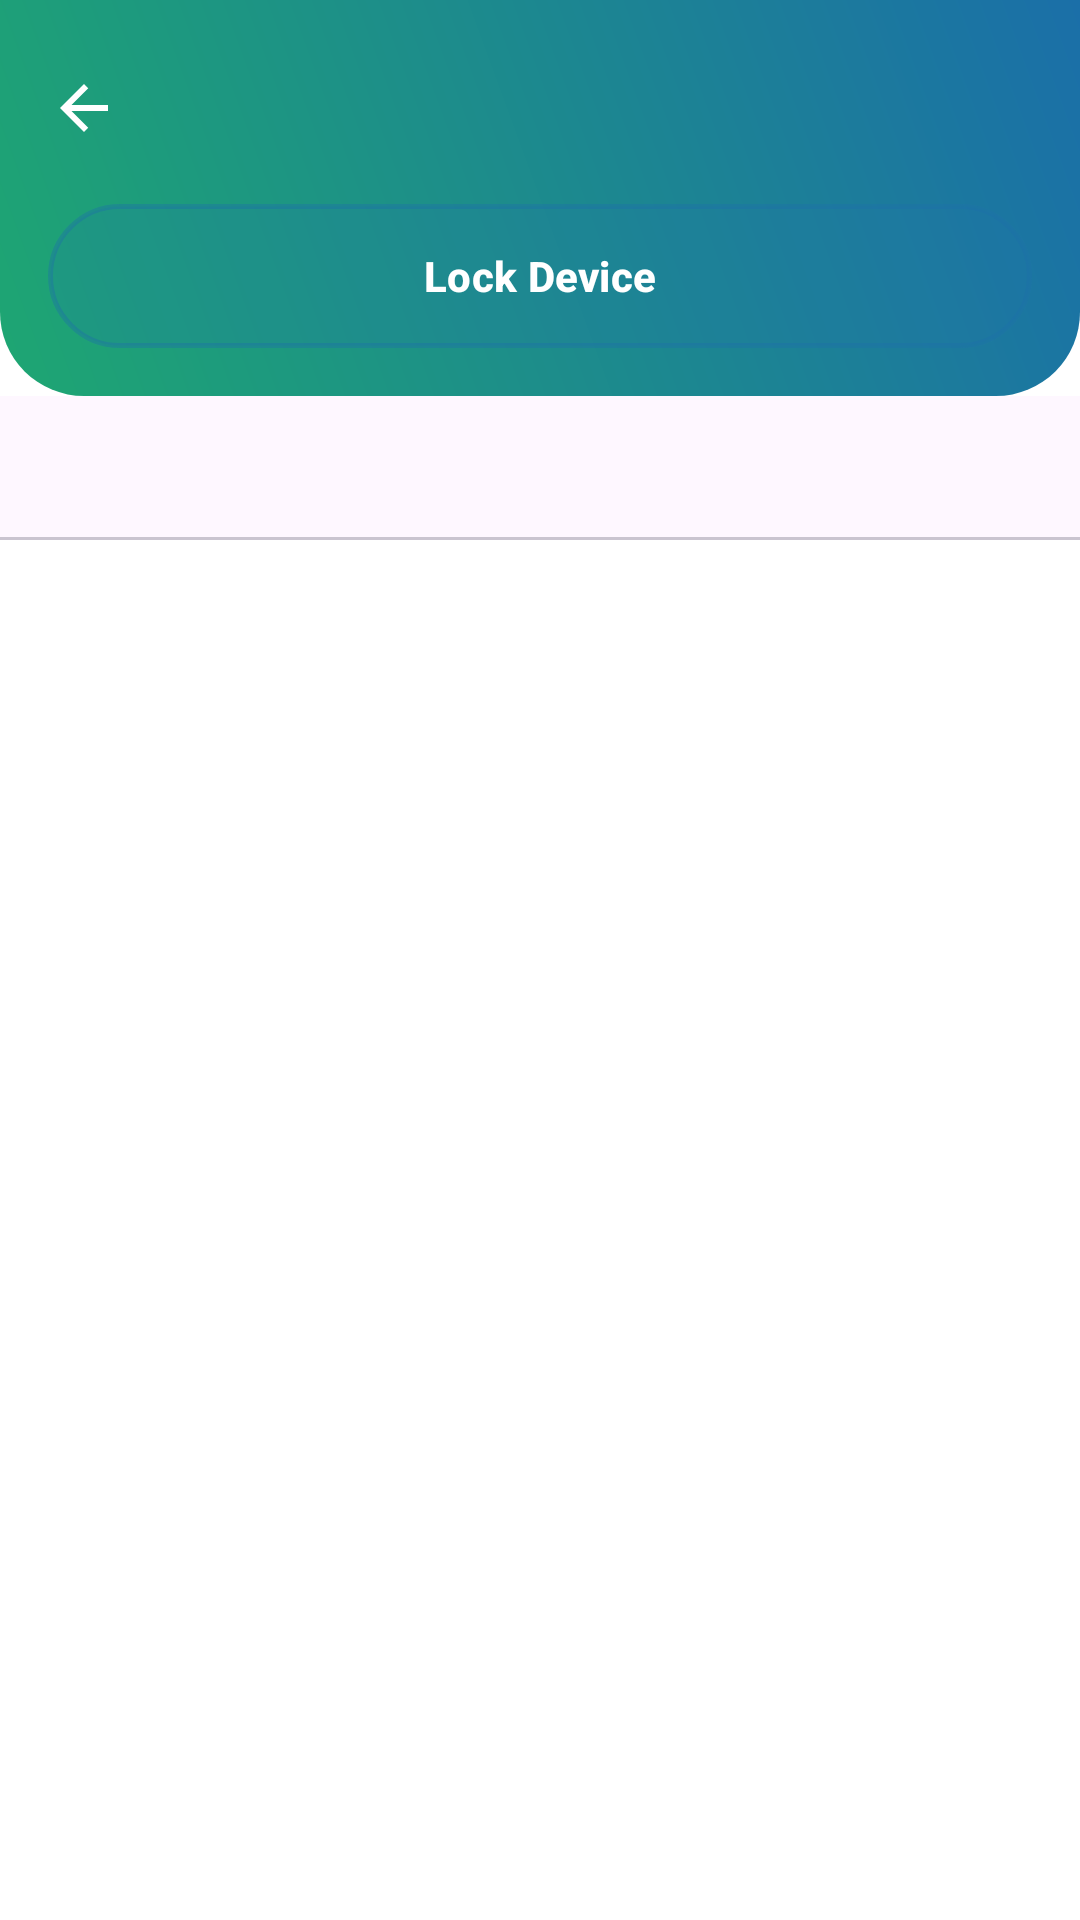

Locate icon controls on the screen. Image size 1080w x 1920h, boxes as (x1, y1, x2, y2).
Back: (60, 84, 108, 132)
